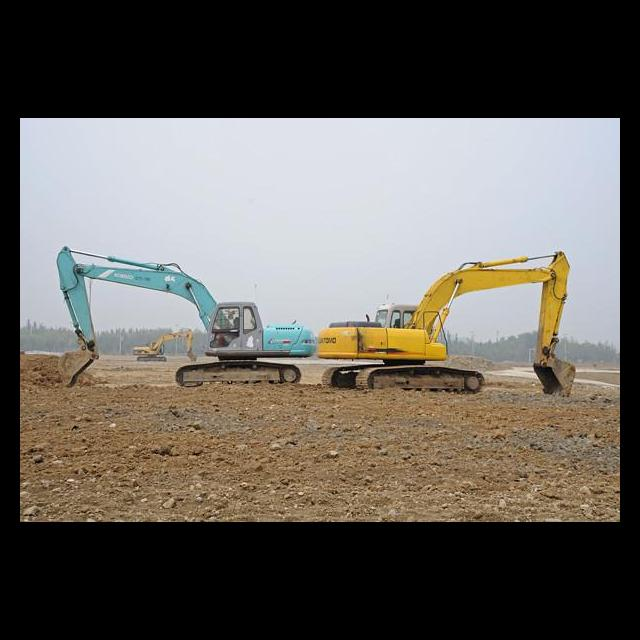Excavator: (320, 236, 575, 396), (53, 246, 316, 387), (133, 330, 197, 362)
Person: (230, 318, 239, 331), (393, 320, 400, 329)
